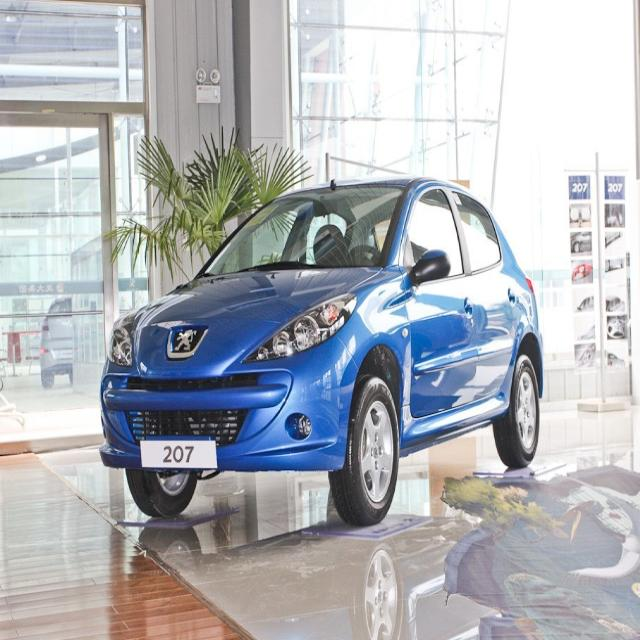front_bumper: (100, 338, 360, 472)
front_glass: (198, 182, 406, 273)
front_left_side_door: (399, 181, 479, 425)
front_left_side_light: (243, 290, 359, 368)
front_left_side_mirror: (411, 247, 452, 290)
front_right_side_light: (107, 308, 138, 370)
wheel: (329, 376, 399, 522), (492, 355, 540, 465), (124, 468, 200, 518)
